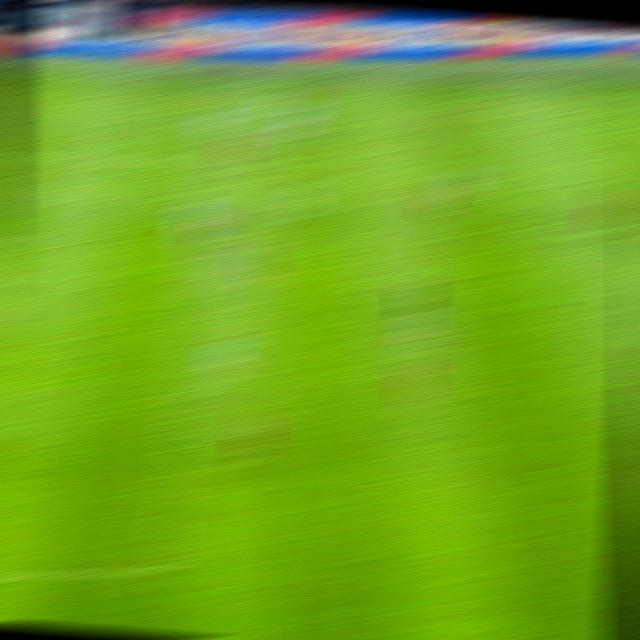bigarea_bottom_inner: (147, 554, 184, 587)
bigarea_top_inner: (184, 153, 219, 173)
bottom_arc_area_intersection: (163, 385, 202, 416)
smallarea_top_inner: (6, 235, 40, 251)
top_arc_area_intersection: (177, 250, 209, 270)
